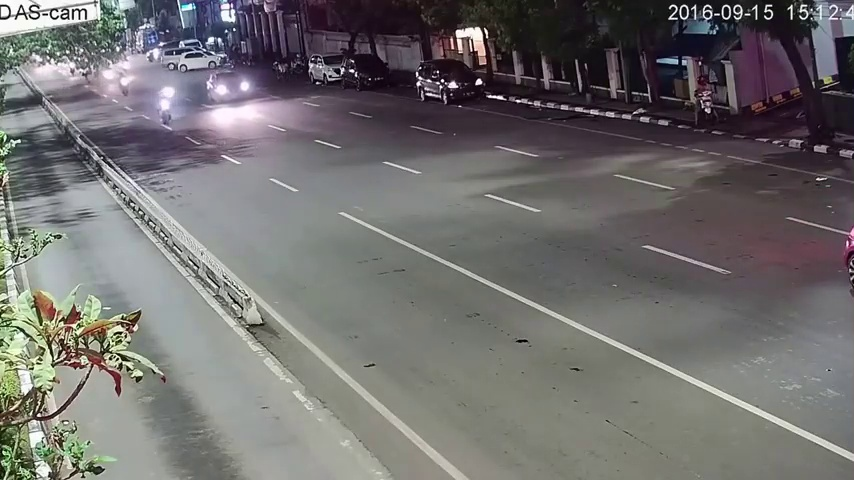car: (412, 58, 487, 110), (343, 53, 389, 94), (208, 71, 251, 107), (308, 51, 343, 88)
motorbike: (692, 74, 718, 132), (158, 100, 175, 127)
